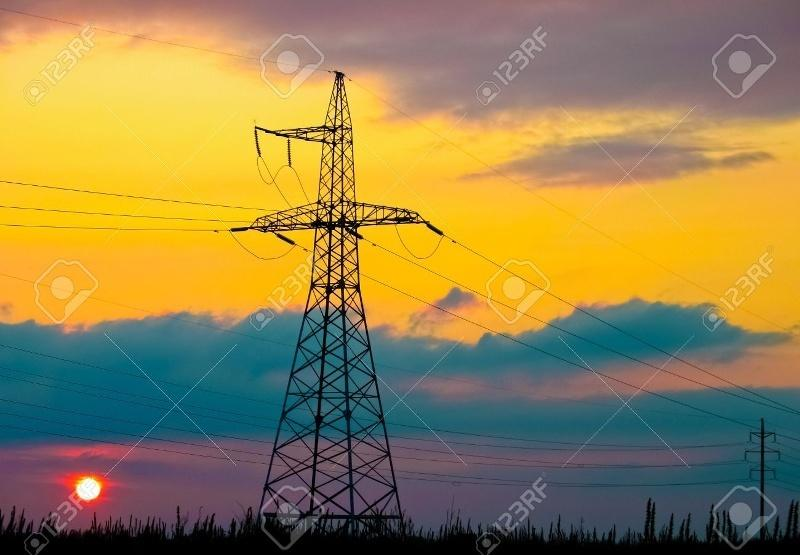power_tower: (251, 84, 430, 515)
